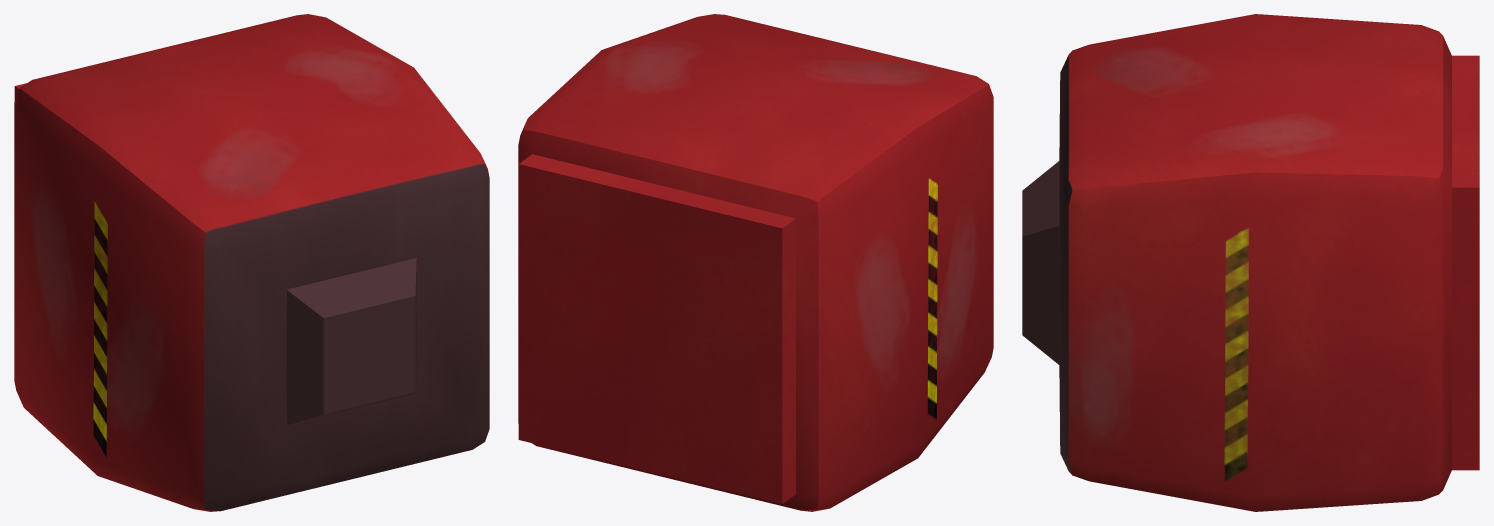
The model's file is Claw Glove.fbx.
The picture shows the model from 3 angles, left to right: view 1: azimuth 30°, elevation 25°; view 2: azimuth 150°, elevation 25°; view 3: azimuth 270°, elevation 25°; orthographic projection. The views are drawn at different scales.
Parts seen in each view (by area): view 1: Glove; view 2: Glove; view 3: Glove.
Part boxes in pixels (left/top/right/bottom): Glove: left=14, top=14, right=489, bottom=511; Glove: left=518, top=14, right=993, bottom=511; Glove: left=1022, top=14, right=1479, bottom=511.
Bounding box in the file's own units: 39.86 × 39.86 × 46.46.
Materials: 1 (1 with a texture image).
